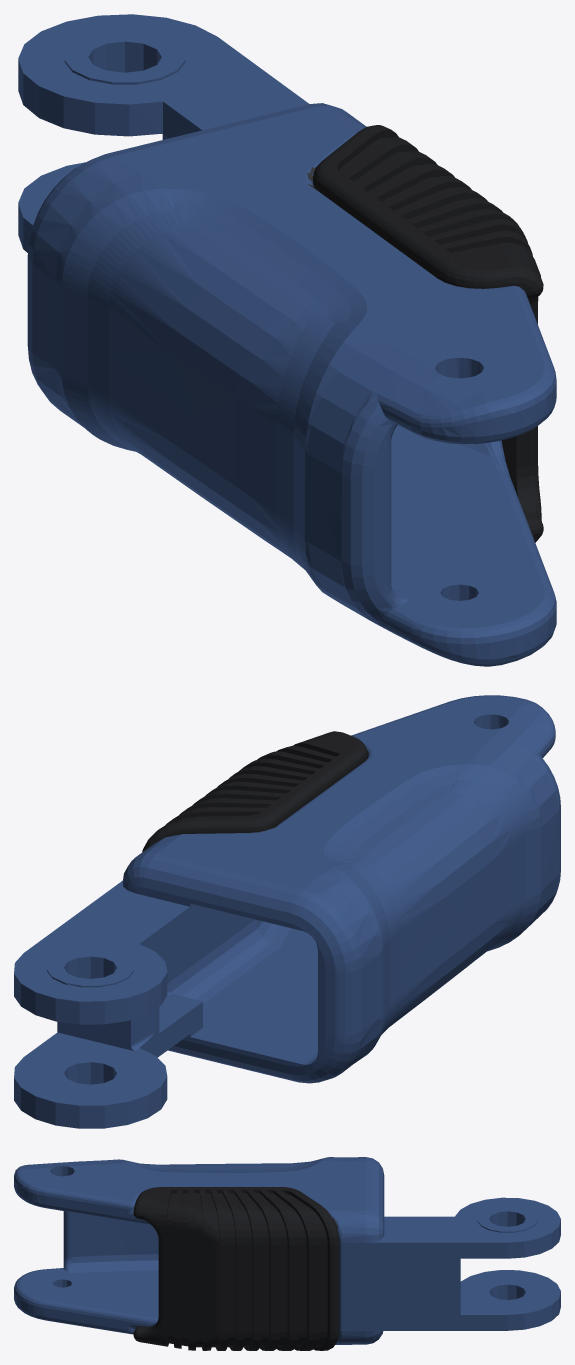
Rendered from lh_middle_proximal_vis.obj.
3 renders of one model, top to bottom at view 1: azimuth 30°, elevation 25°; view 2: azimuth 150°, elevation 25°; view 3: azimuth 270°, elevation 25°, orthographic. The views are drawn at different scales.
Visible parts, largest first — view 1: lh_middle_proximal; view 2: lh_middle_proximal; view 3: lh_middle_proximal.
Boxes of the visible parts, x1,y1,x2,y2 form: lh_middle_proximal: (18, 14, 556, 666); lh_middle_proximal: (14, 695, 560, 1128); lh_middle_proximal: (14, 1157, 560, 1350).
Bounding box in the file's own units: 0.016 × 0.013 × 0.045.
1 material, 1 textured.
